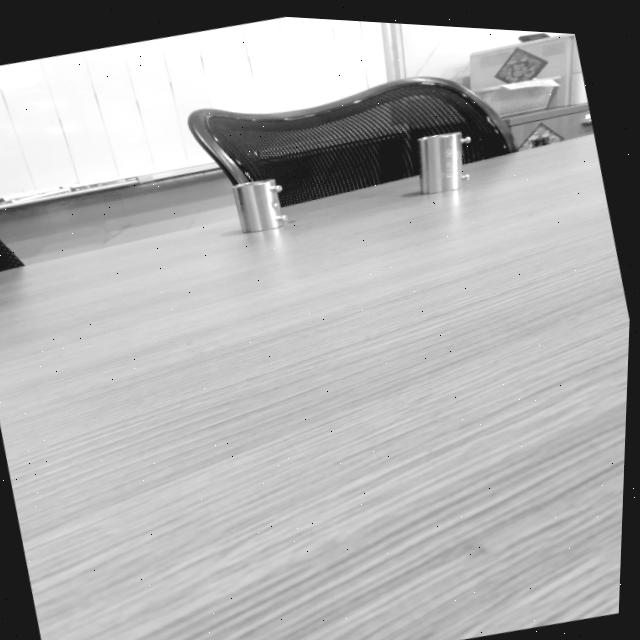Co_Lon: (414, 131, 475, 194)
Co_Nho: (232, 176, 289, 234)
